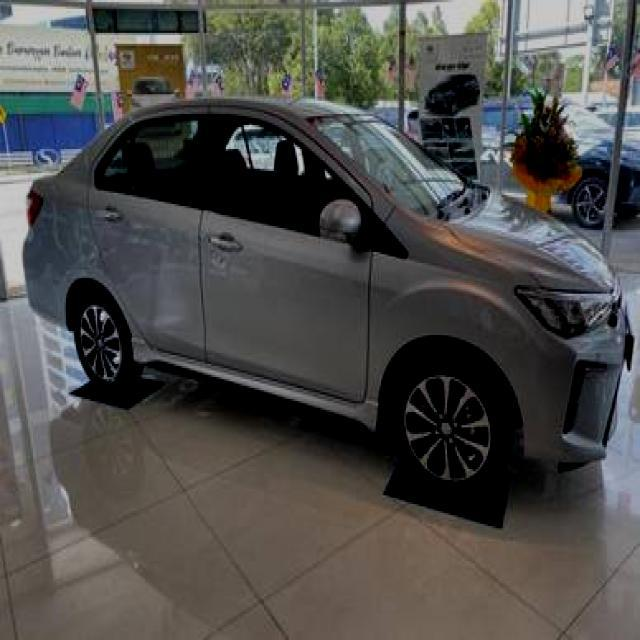PeroduaBezza: (21, 94, 632, 495)
